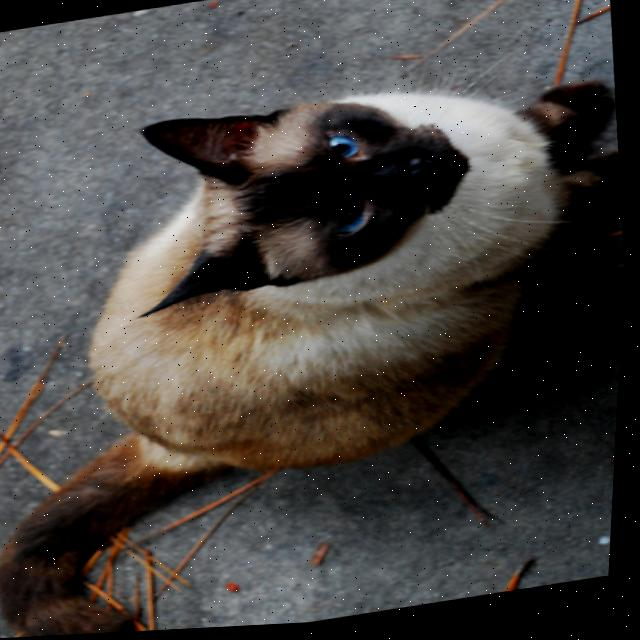Siamese: (0, 53, 637, 640)
